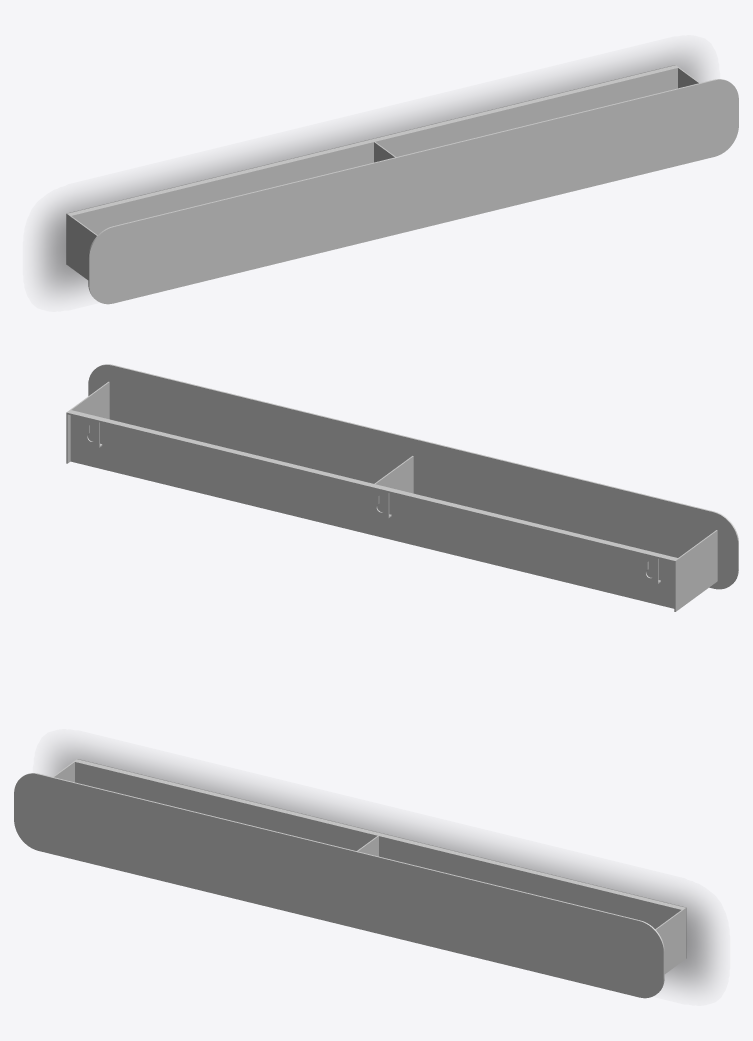
File: radius-mono.c2554e9fb4.ar.glb
3 views of the same model, one above another, from view 1: azimuth 30°, elevation 25°; view 2: azimuth 150°, elevation 25°; view 3: azimuth 330°, elevation 25° (orthographic).
Visible parts, largest first — view 1: NAUO1, object 2; view 2: NAUO1; view 3: NAUO1, object 2.
Part boxes in pixels (x1,y1,x2,y2): NAUO1: (66, 65, 738, 304); object 2: (38, 53, 703, 293); NAUO1: (66, 364, 738, 611); NAUO1: (14, 759, 686, 998); object 2: (49, 747, 714, 987).
Bounding box in the file's own units: 0.88 × 0.17 × 0.092.
2 materials, 1 textured.
